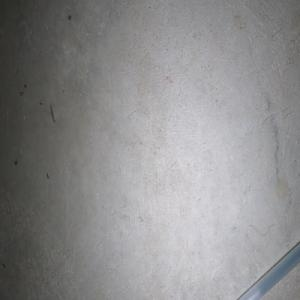Pen: (237, 241, 300, 300)
